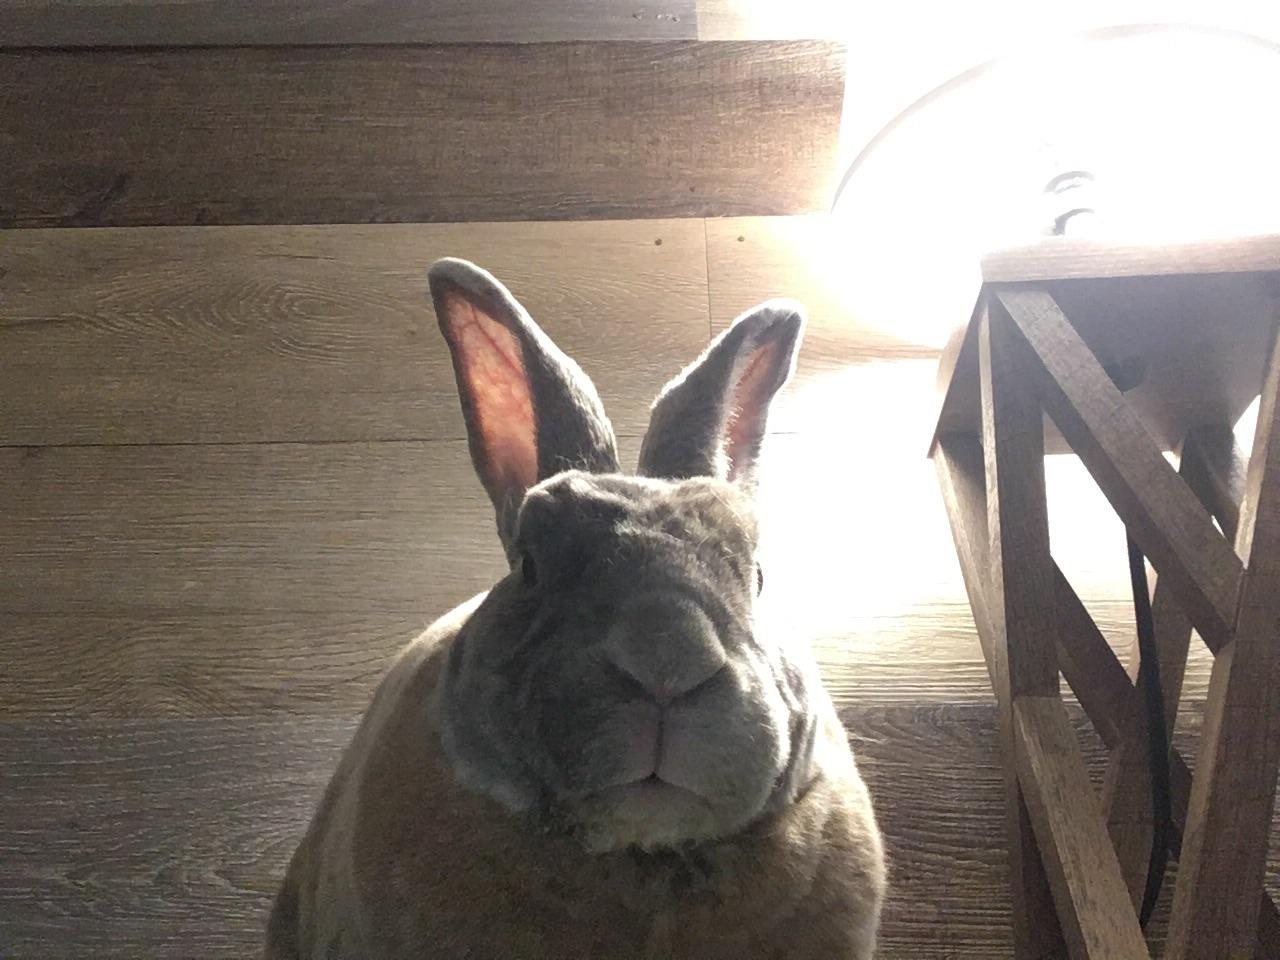bunny: (248, 254, 933, 960)
